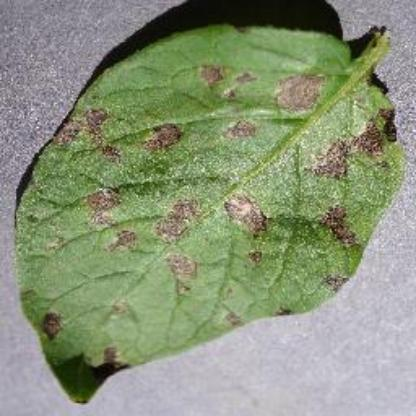Early-Blight: (10, 5, 416, 410)
